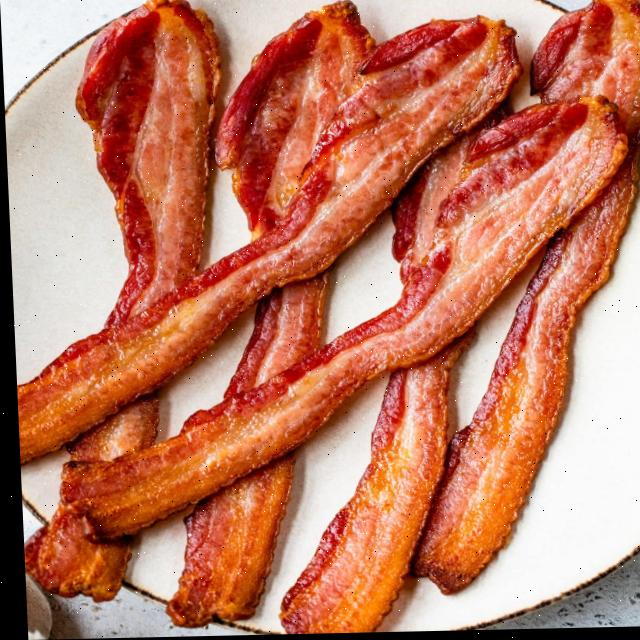Bacon: (56, 102, 626, 539), (15, 19, 521, 461), (406, 138, 640, 596), (275, 333, 469, 635), (75, 0, 220, 327), (213, 3, 375, 237), (161, 455, 291, 628), (251, 273, 327, 386), (64, 395, 156, 461)
